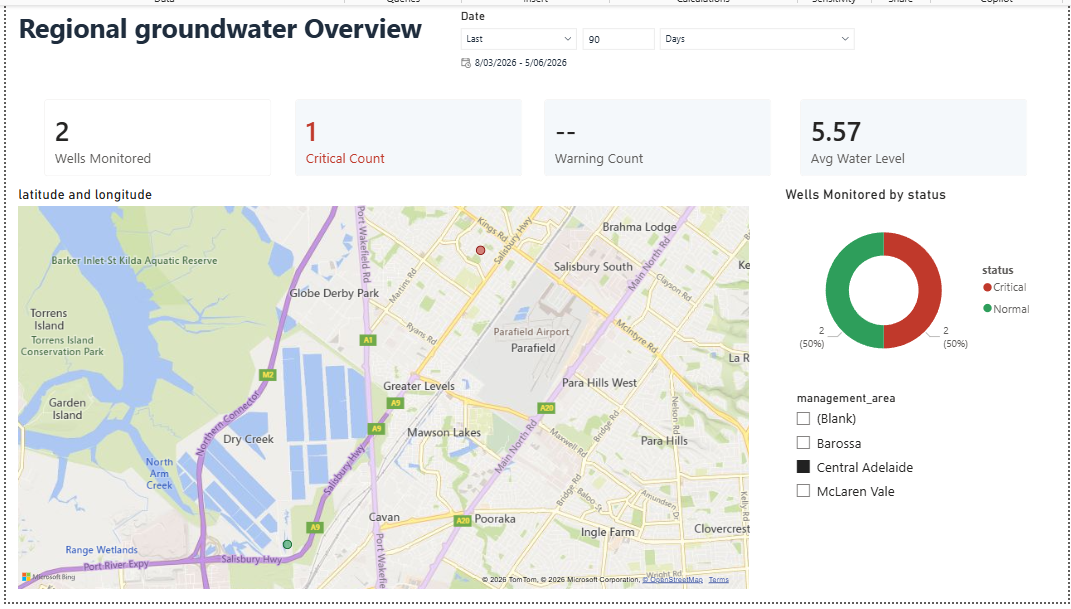

What the dashboard file says about the page in this screenshot:
{"tool":"powerbi","page":{"name":"Regional Overview","canvas":[1280,720],"ordinal":0},"visuals":[{"type":"textbox","box":[9.6,0,516.2,56.7],"z":0},{"type":"slicer","fields":{"Values":["Date.Date"]},"box":[535.5,0,501.7,96.5],"z":1000},{"type":"cardVisual","fields":{"Data":["_Measures.Wells Monitored"]},"box":[29.1,96.8,308.3,127.8],"z":2000},{"type":"cardVisual","fields":{"Data":["_Measures.Critical Count"]},"box":[331.7,96.8,308.3,127.8],"z":3000},{"type":"cardVisual","fields":{"Data":["_Measures.Warning Count"]},"box":[632.5,96.8,308.3,127.8],"z":4000},{"type":"cardVisual","fields":{"Data":["_Measures.Avg Water Level"]},"box":[940.7,96.8,308.3,127.8],"z":5000},{"type":"map","fields":{"Y":["monitoring monitoring_wells.latitude"],"X":["monitoring monitoring_wells.longitude"]},"box":[9.6,218.3,892.5,490.9],"z":6000},{"type":"donutChart","fields":{"Y":["_Measures.Wells Monitored"],"Category":["monitoring vw_well_status.status"]},"box":[934.7,218.3,314.8,232.8],"z":7000},{"type":"slicer","fields":{"Values":["monitoring monitoring_wells.management_area"]},"box":[940.7,460.7,197.8,259.3],"z":7001}]}

Visuals, with their boxes on the page's 1280x720 design canvas (x1, y1, x2, y2). These are canvas units, not pixel positions in the 1071x609 screenshot, which may show the page scaled, cropped or inside an application window:
textbox: <bbox>10, 0, 526, 57</bbox>
slicer - Date.Date: <bbox>536, 0, 1037, 96</bbox>
cardVisual - _Measures.Wells Monitored: <bbox>29, 97, 337, 225</bbox>
cardVisual - _Measures.Critical Count: <bbox>332, 97, 640, 225</bbox>
cardVisual - _Measures.Warning Count: <bbox>632, 97, 941, 225</bbox>
cardVisual - _Measures.Avg Water Level: <bbox>941, 97, 1249, 225</bbox>
map - monitoring monitoring_wells.latitude x monitoring monitoring_wells.longitude: <bbox>10, 218, 902, 709</bbox>
donutChart - _Measures.Wells Monitored x monitoring vw_well_status.status: <bbox>935, 218, 1250, 451</bbox>
slicer - monitoring monitoring_wells.management_area: <bbox>941, 461, 1138, 720</bbox>
